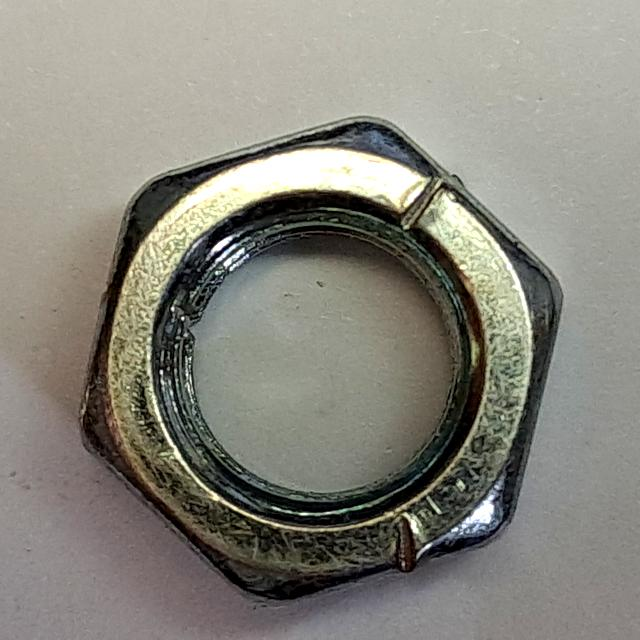Scratches: (70, 106, 570, 612)
